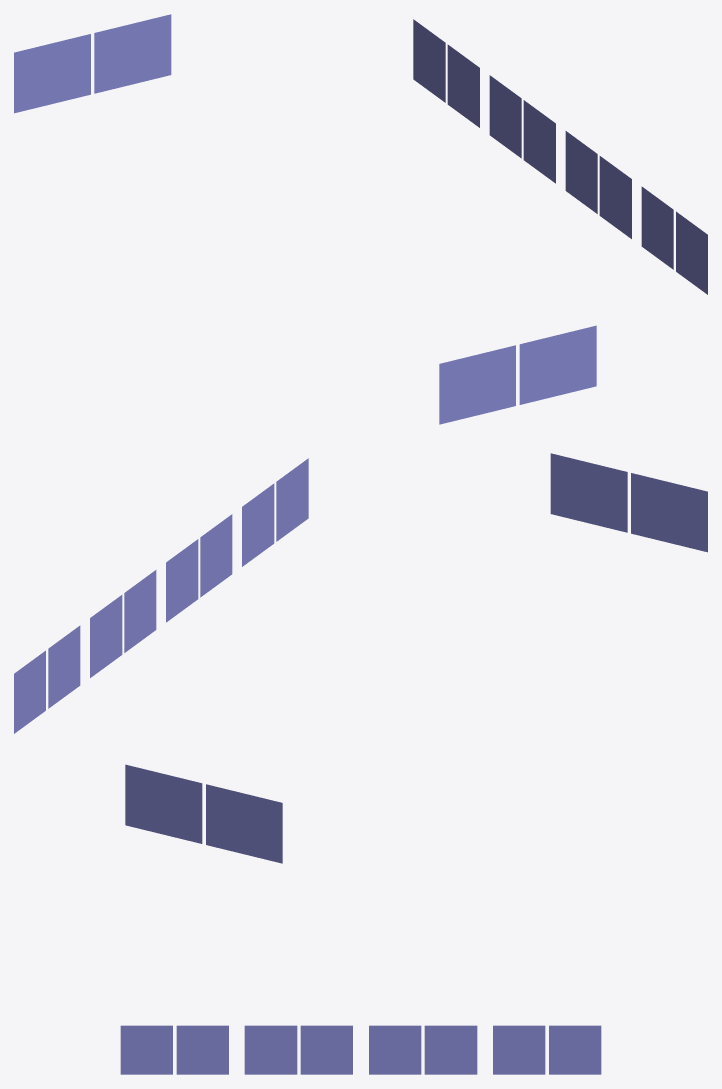
The model's file is floor-windows.fbx.
3 views of the same model, one above another, from view 1: azimuth 30°, elevation 25°; view 2: azimuth 150°, elevation 25°; view 3: azimuth 270°, elevation 25° (orthographic). The views are drawn at different scales.
Parts seen in each view (by area): view 1: floor-windows; view 2: floor-windows; view 3: floor-windows.
Boxes of the visible parts, <box> form: floor-windows: <box>14,14,707,424</box>; floor-windows: <box>14,453,707,863</box>; floor-windows: <box>120,1025,601,1074</box>.
Size of the model in its own units: 11.54 by 2.01 by 25.44.
